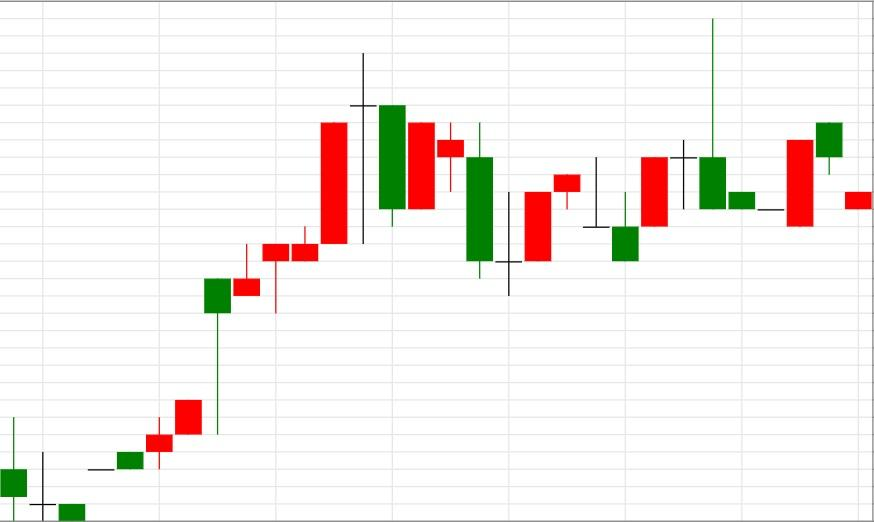evening_star_fall: (58, 52, 407, 521)
morning_star_rise: (348, 52, 553, 296)
